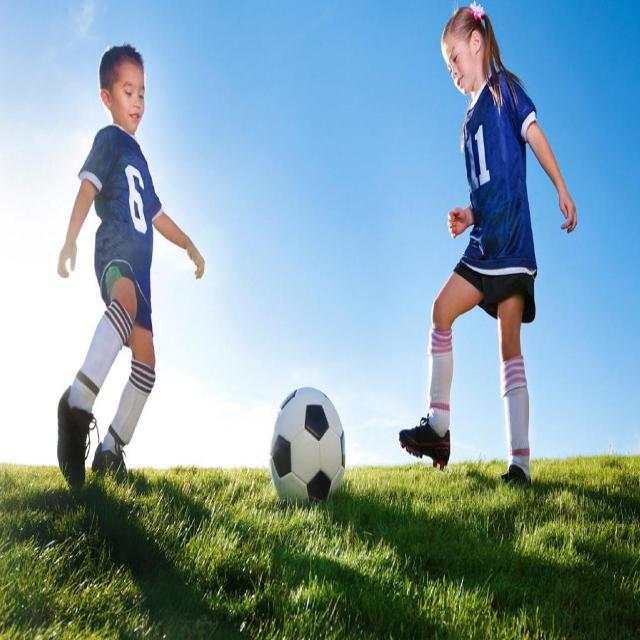Face: (107, 48, 148, 131), (440, 26, 482, 100)
